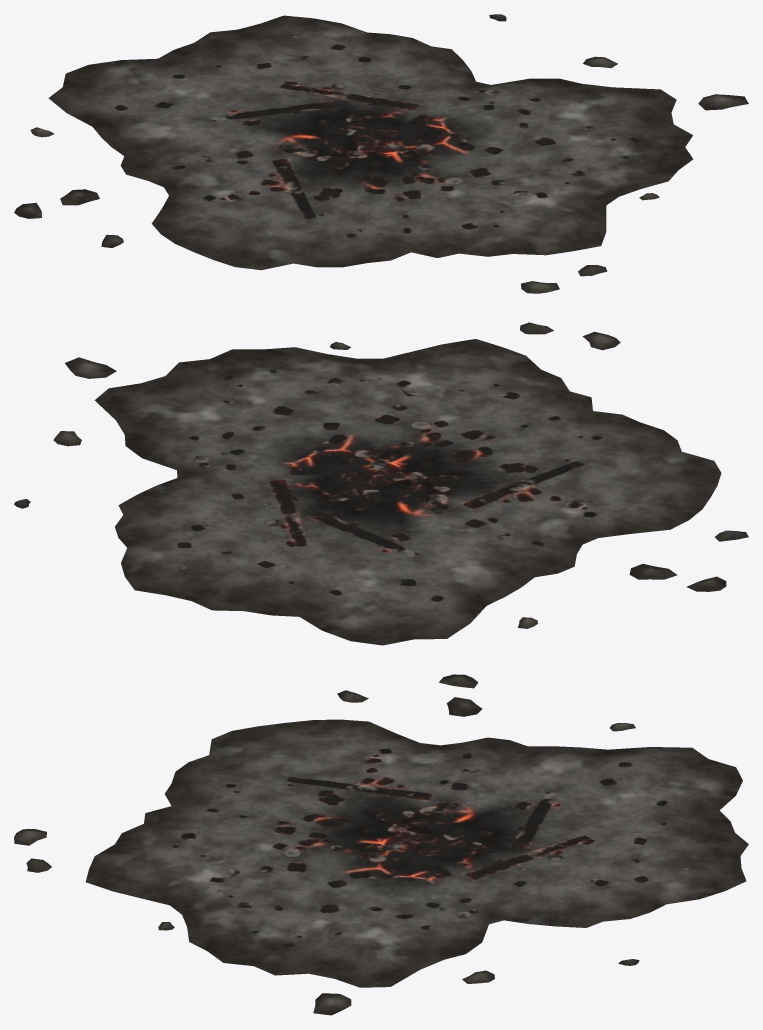
File: decal_ash.glb
3 renders of one model, top to bottom at view 1: azimuth 30°, elevation 25°; view 2: azimuth 150°, elevation 25°; view 3: azimuth 270°, elevation 25°, orthographic. The views are drawn at different scales.
Parts seen in each view (by area): view 1: decal_ash; view 2: decal_ash; view 3: decal_ash.
Part boxes in pixels (bbox=[...]): decal_ash: bbox=[14, 14, 748, 293]; decal_ash: bbox=[14, 322, 748, 645]; decal_ash: bbox=[14, 674, 748, 1015].
Bounding box in the file's own units: 2 × 0.016 × 1.82.
1 material, 1 textured.
